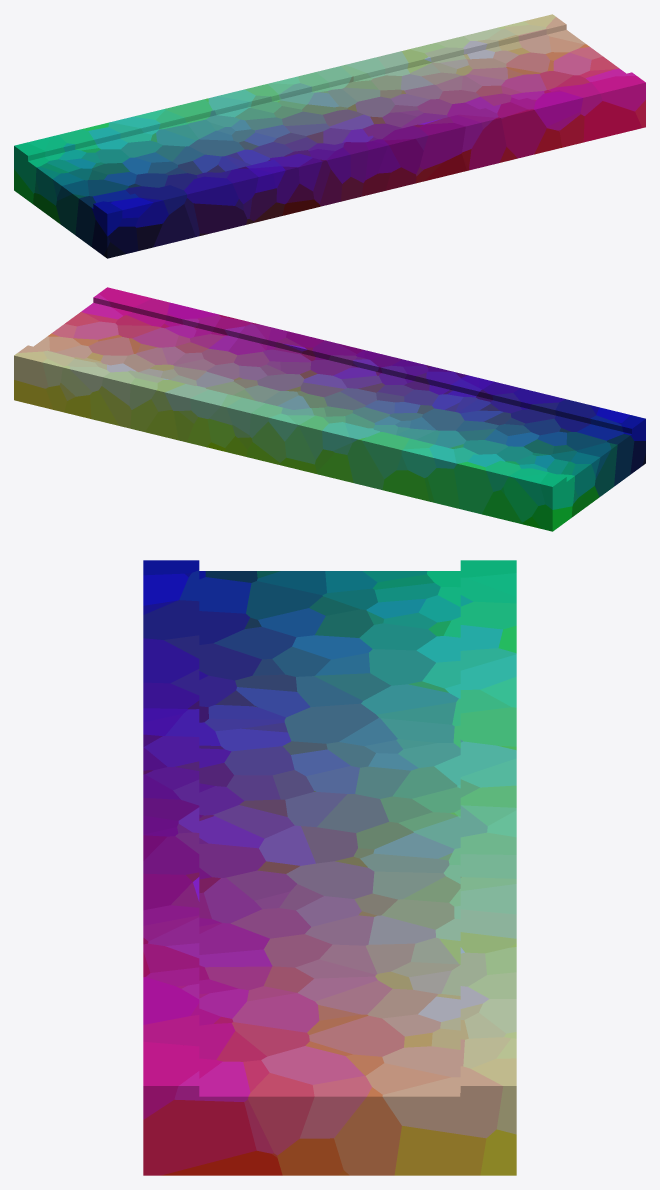
File: Ground01.FBX
3 renders of one model, top to bottom at view 1: azimuth 30°, elevation 25°; view 2: azimuth 150°, elevation 25°; view 3: azimuth 270°, elevation 25°, orthographic. The views are drawn at different scales.
Visible parts, largest first — view 1: Object01; view 2: Object01; view 3: Object01.
Part boxes in pixels (x1,y1,x2,y2): Object01: [14, 14, 645, 258]; Object01: [14, 287, 645, 531]; Object01: [143, 560, 516, 1175].
Size of the model in its own units: 20 by 1.59 by 6.
